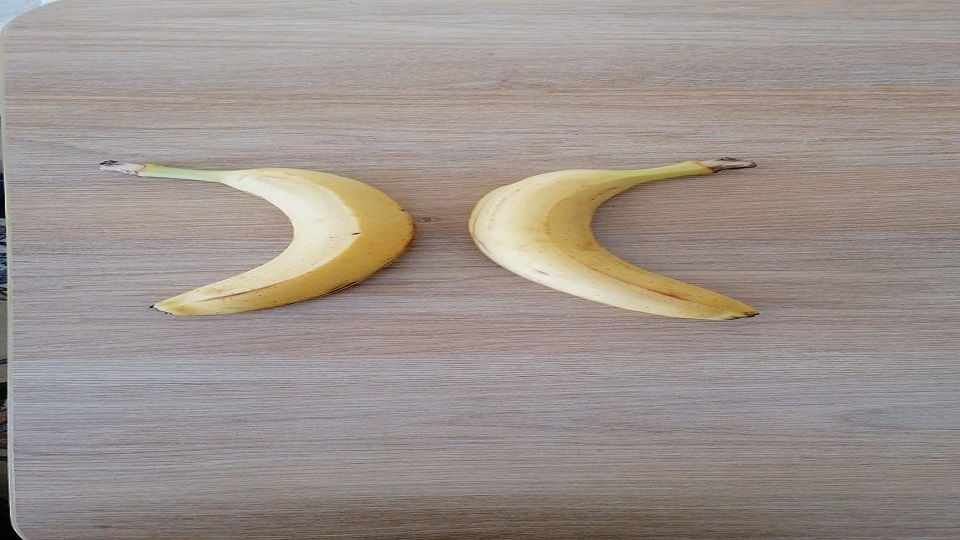muz: (100, 159, 415, 319), (468, 157, 758, 324)
